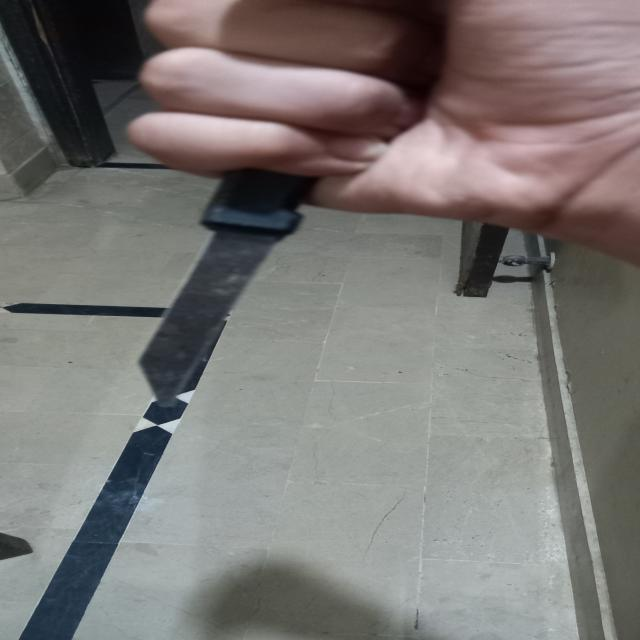weapon: (122, 27, 451, 399)
